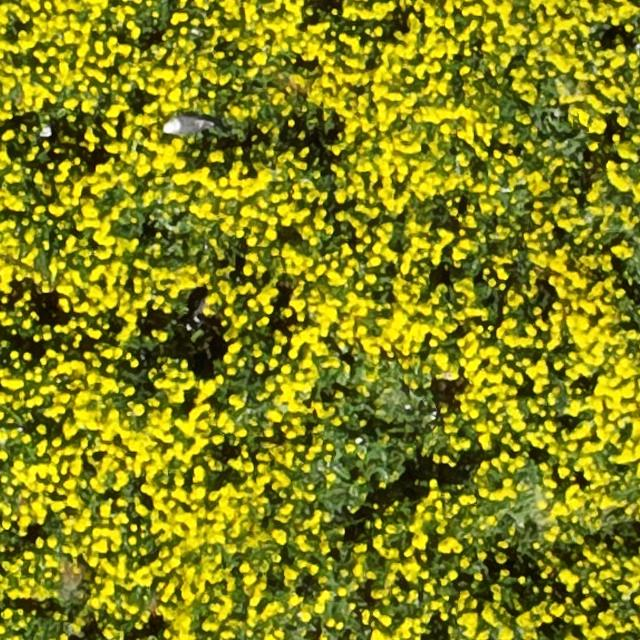umineko: (164, 116, 208, 134)
